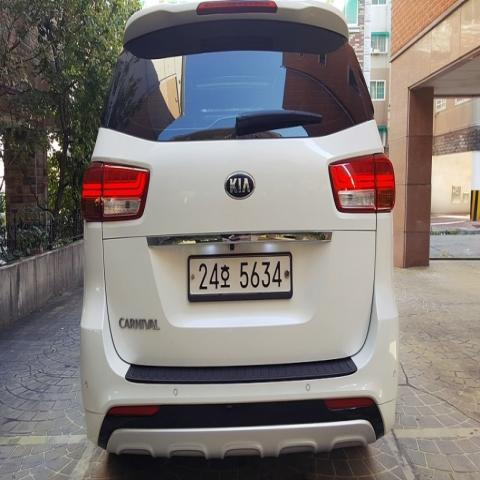LP: (183, 248, 295, 305)
